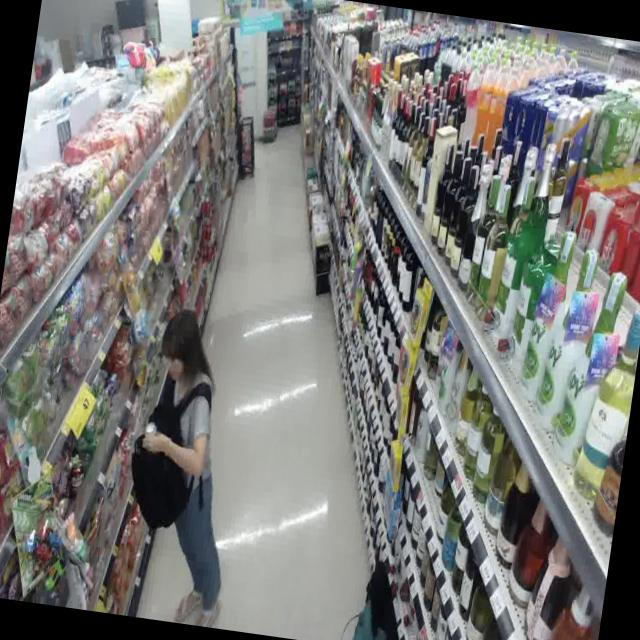shoplifting: (96, 290, 266, 630)
